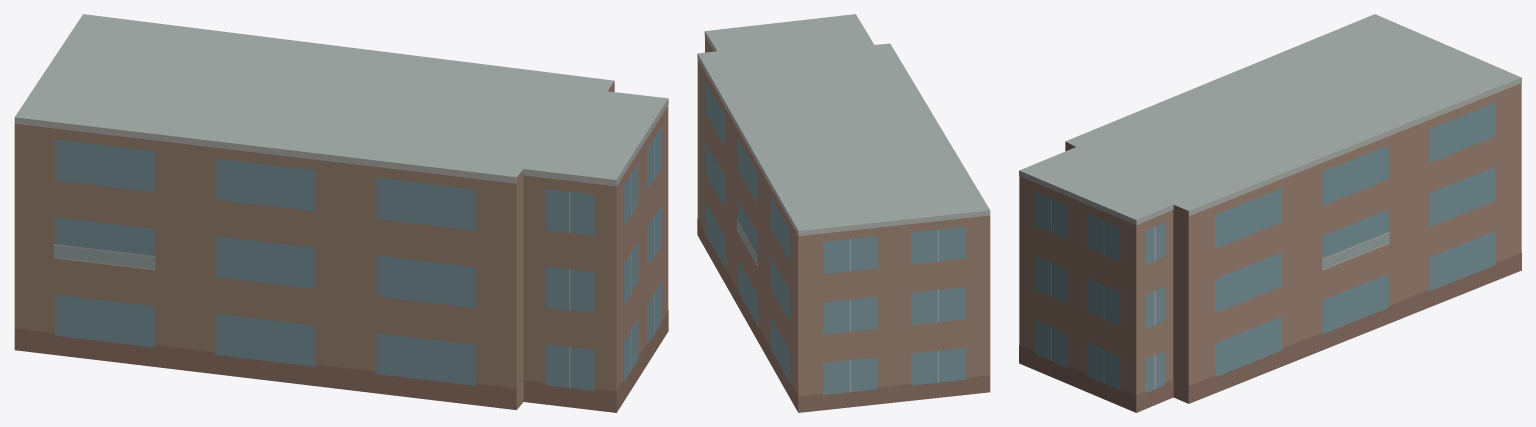
Rendered from survey-upis-33039994.glb.
The picture shows the model from 3 angles, left to right: view 1: azimuth 30°, elevation 25°; view 2: azimuth 150°, elevation 25°; view 3: azimuth 270°, elevation 25°; orthographic projection. The views are drawn at different scales.
Parts seen in each view (by area): view 1: survey-upis-33039994.tmp; view 2: survey-upis-33039994.tmp; view 3: survey-upis-33039994.tmp.
Boxes of the visible parts, <box> form: survey-upis-33039994.tmp: <box>14,14,668,412</box>; survey-upis-33039994.tmp: <box>697,14,990,412</box>; survey-upis-33039994.tmp: <box>1019,14,1521,412</box>.
Bounding box in the file's own units: 20.17 × 8.8 × 20.8.
